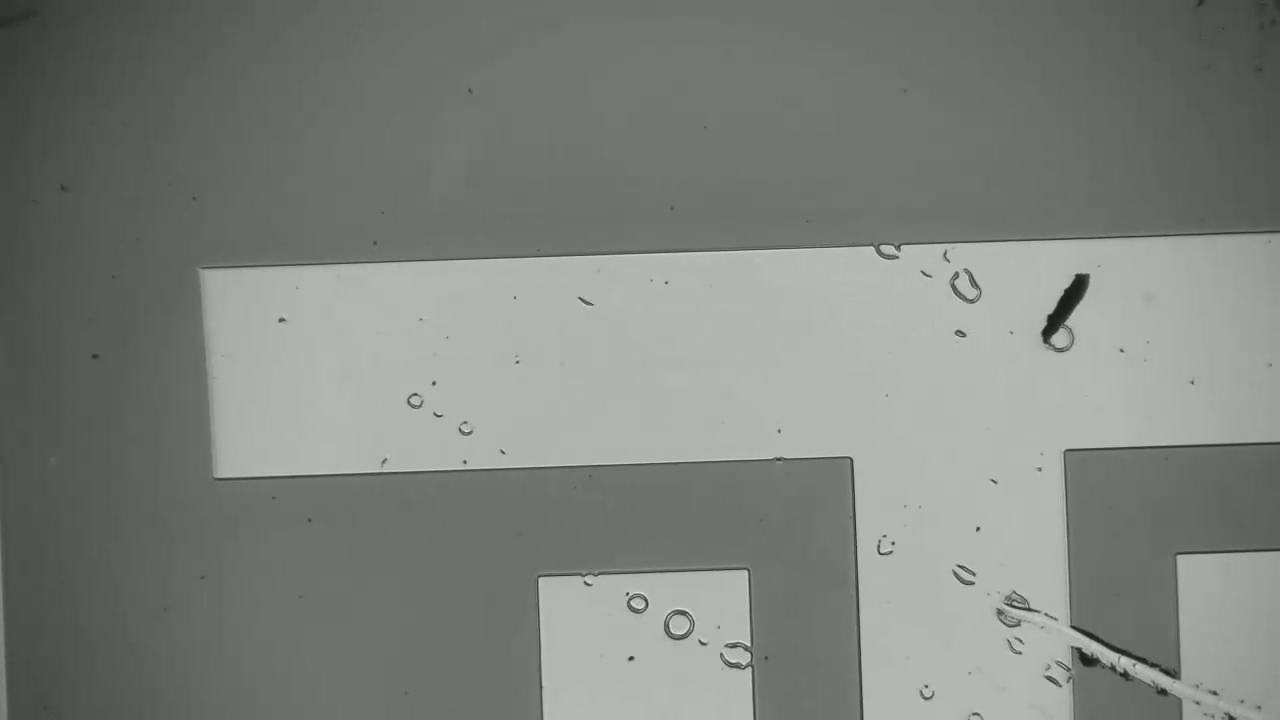Short_circuit: (1044, 599, 1209, 712)
